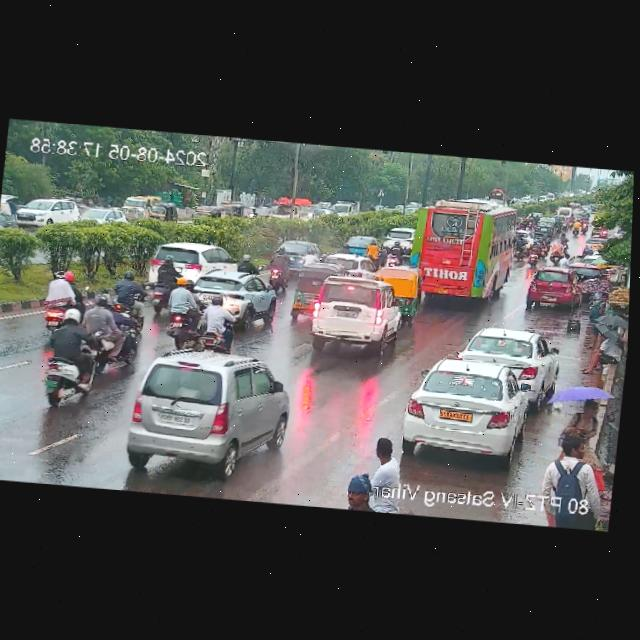bus: (408, 193, 518, 298)
car: (120, 342, 294, 470), (400, 352, 536, 457), (308, 270, 398, 353), (459, 325, 560, 391), (182, 269, 276, 325), (145, 238, 240, 289), (373, 266, 422, 322), (289, 261, 339, 314), (523, 267, 583, 310), (7, 194, 77, 227), (268, 238, 322, 266), (323, 250, 375, 275), (76, 206, 126, 225), (382, 225, 413, 249), (192, 202, 223, 225), (147, 203, 178, 221), (581, 238, 609, 257), (219, 200, 244, 217), (534, 220, 555, 238), (516, 229, 535, 242)
motorcycle: (32, 309, 110, 406), (77, 293, 141, 361), (157, 277, 213, 350), (40, 269, 88, 329), (195, 294, 242, 352), (108, 272, 151, 313), (146, 255, 184, 290), (268, 247, 293, 290), (387, 239, 406, 265), (525, 239, 541, 266), (548, 238, 564, 264), (365, 239, 380, 264), (389, 239, 402, 266), (514, 233, 528, 257), (538, 233, 550, 257), (558, 233, 568, 249), (580, 217, 590, 233), (571, 219, 580, 236), (247, 207, 259, 218), (526, 213, 534, 229), (554, 218, 562, 232)
person: (546, 432, 599, 492), (579, 325, 627, 378), (566, 394, 611, 436), (334, 466, 374, 511), (365, 434, 402, 478), (594, 291, 610, 314)
truck: (271, 197, 313, 221), (330, 198, 361, 218)
